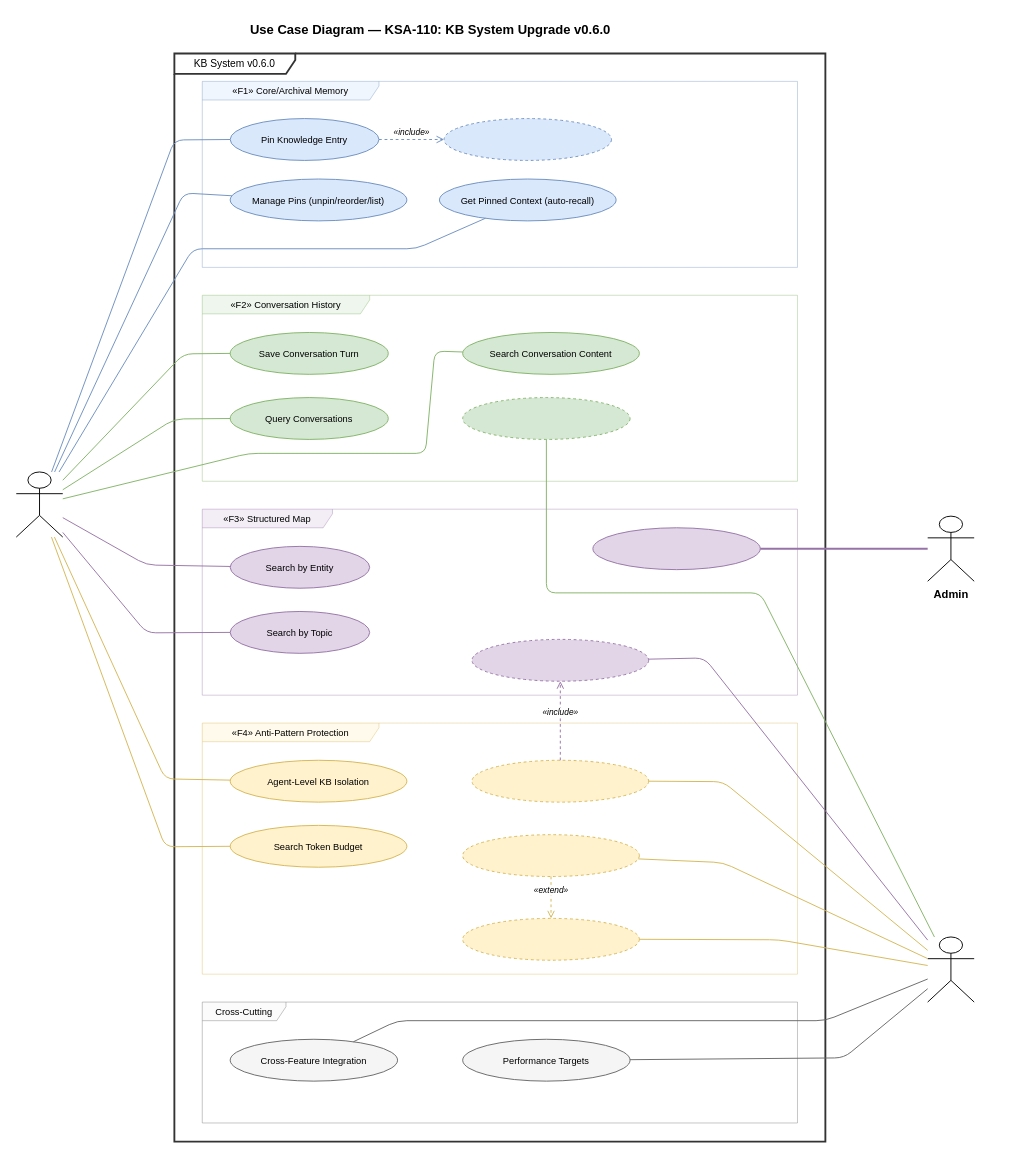
The diagram is 1025 pixels wide and 1158 high, and some of its shapes have lost their labels. The centre of each missing label's shape, as x and y in pixels:
"AI Agent" goes at (x=39, y=504).
"Auto-Extract Structured Map" goes at (x=560, y=659).
"Auto-Summarize Session" goes at (x=546, y=418).
"Backfill Existing Entries" goes at (x=676, y=548).
"Blind Retrieval Prevention" goes at (x=550, y=938).
"Enforce Token Budget" goes at (x=527, y=139).
"Ingest Quality Gate" goes at (x=560, y=780).
"System (Background)" goes at (x=950, y=969).
"WORKING Tier Auto-Expiry" goes at (x=550, y=855).
